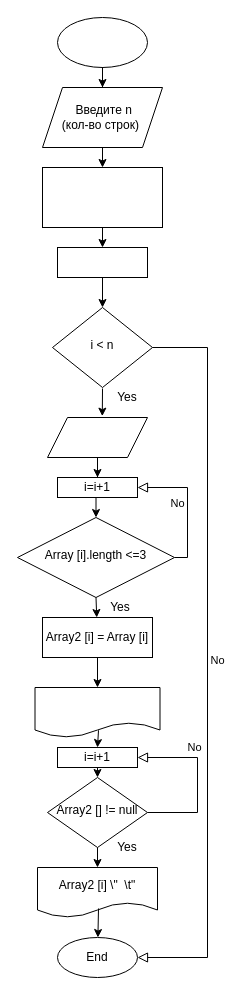
The diagram is 242 pixels wide and 995 high, and some of its shapes have lost their labels. Each missing label, with the centre of its shape:
"Array [i]" belongs at (x=97, y=437).
"i = 0" belongs at (x=102, y=262).
"Start" belongs at (x=102, y=42).
"sting Array [n] strint Array2 [ ]" belongs at (x=102, y=197).
"string.Join Array [n]" belongs at (x=97, y=712).
